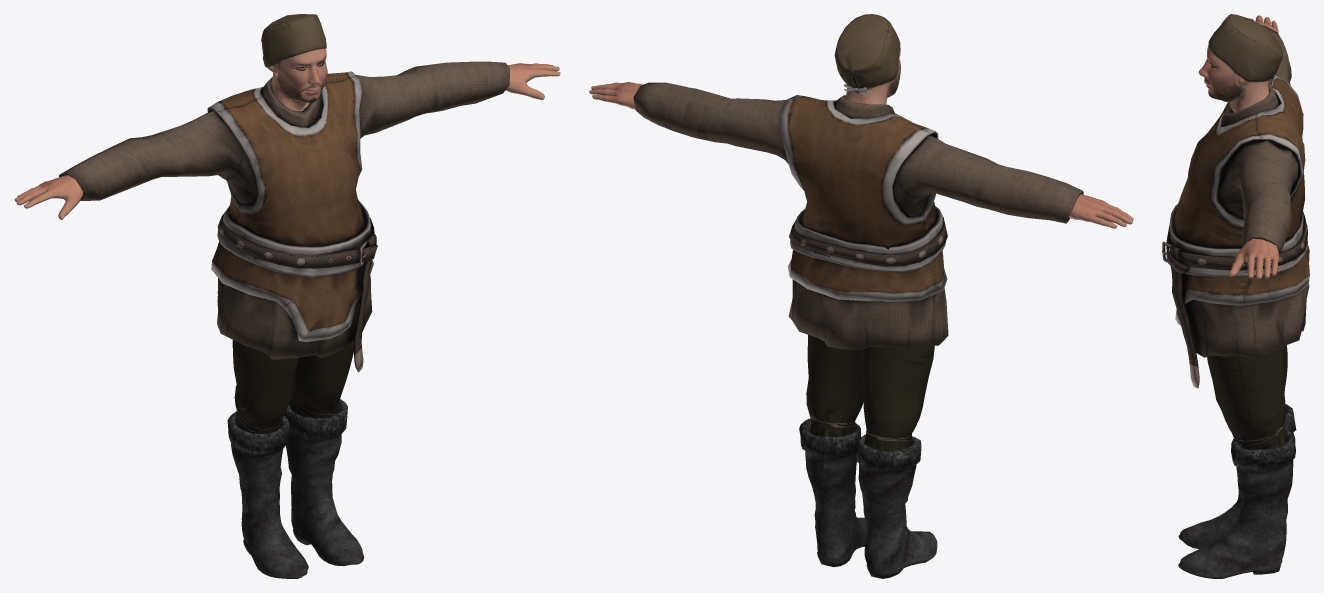
The model's file is povar.obj.
3 renders of one model, left to right at view 1: azimuth 30°, elevation 25°; view 2: azimuth 150°, elevation 25°; view 3: azimuth 270°, elevation 25°, orthographic.
Parts seen in each view (by area): view 1: Tops, Shoes, Bottoms, Body, Hats; view 2: Tops, Shoes, Bottoms, Hats, Body; view 3: Tops, Shoes, Bottoms, Body, Hats.
Part boxes in pixels (box(x1,y1,x2,y2)): Tops: box(59, 61, 509, 372); Shoes: box(227, 399, 364, 578); Bottoms: box(232, 340, 353, 433); Body: box(14, 48, 560, 219); Hats: box(261, 14, 326, 67); Tops: box(633, 82, 1083, 349); Shoes: box(799, 418, 937, 578); Bottoms: box(806, 335, 934, 451); Hats: box(834, 14, 900, 94); Body: box(589, 48, 1133, 228); Tops: box(1162, 25, 1309, 388); Shoes: box(1178, 404, 1296, 578); Bottoms: box(1207, 345, 1287, 449); Body: box(1199, 15, 1278, 278); Hats: box(1208, 14, 1282, 86).
Size of the model in its own units: 194 by 184 by 45.89.
5 materials, 5 textured.
